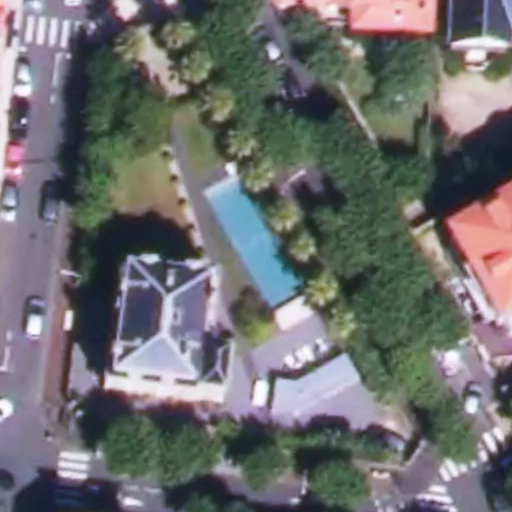pool: (204, 191, 307, 292)
